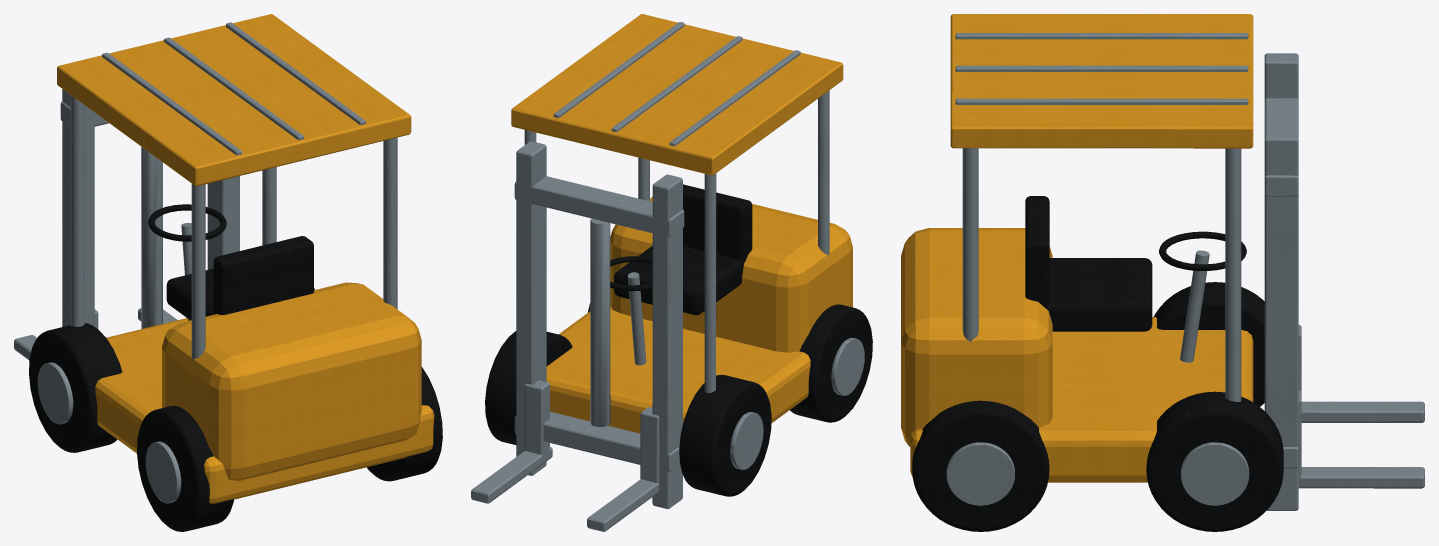
Rendered from forklift.glb.
3 views of the same model, side by side, from view 1: azimuth 30°, elevation 25°; view 2: azimuth 150°, elevation 25°; view 3: azimuth 270°, elevation 25° (orthographic). The views are drawn at different scales.
Visible parts, largest first — view 1: forklift; view 2: forklift; view 3: forklift.
Boxes of the visible parts, box(x1,y1,x2,y2) form: forklift: box(14, 14, 442, 531); forklift: box(471, 14, 872, 531); forklift: box(901, 14, 1424, 531).
Bounding box in the file's own units: 1.6 × 2.2 × 2.6.
1 material, 1 textured.
